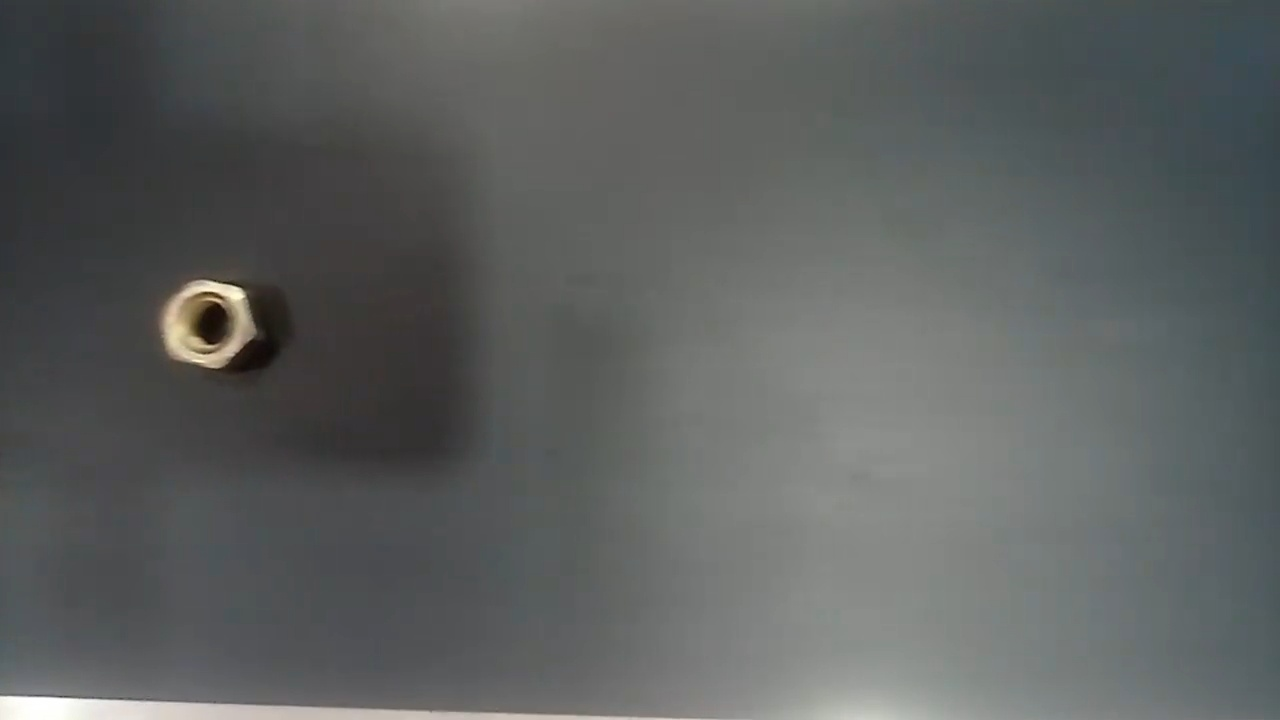Bolt: (154, 273, 267, 375)
